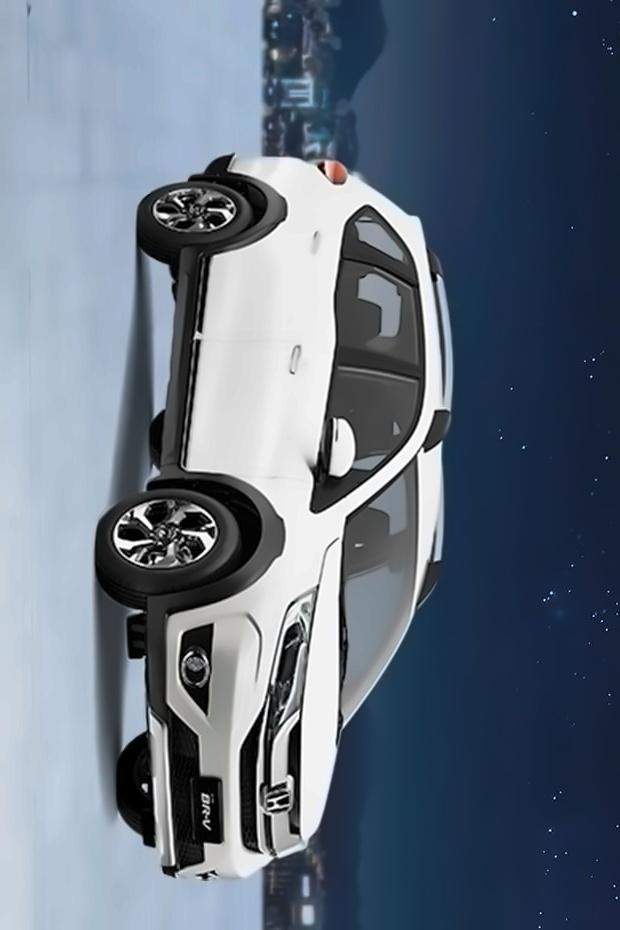Car hood: (297, 527, 346, 844)
Driver-s door - -F-R-: (184, 350, 439, 481)
Fender - -F-R-: (159, 469, 347, 622)
Fender - -R-R-: (235, 172, 355, 236)
Front bumper: (125, 585, 270, 891)
Headlight - -R-: (264, 579, 323, 743)
Passenger-s door - -R-R-: (192, 231, 444, 343)
Rear light - -R-: (309, 147, 362, 198)
Side bumper - -R-: (154, 234, 214, 496), (182, 137, 267, 193)
Side mirror - -R-: (310, 397, 364, 487)
